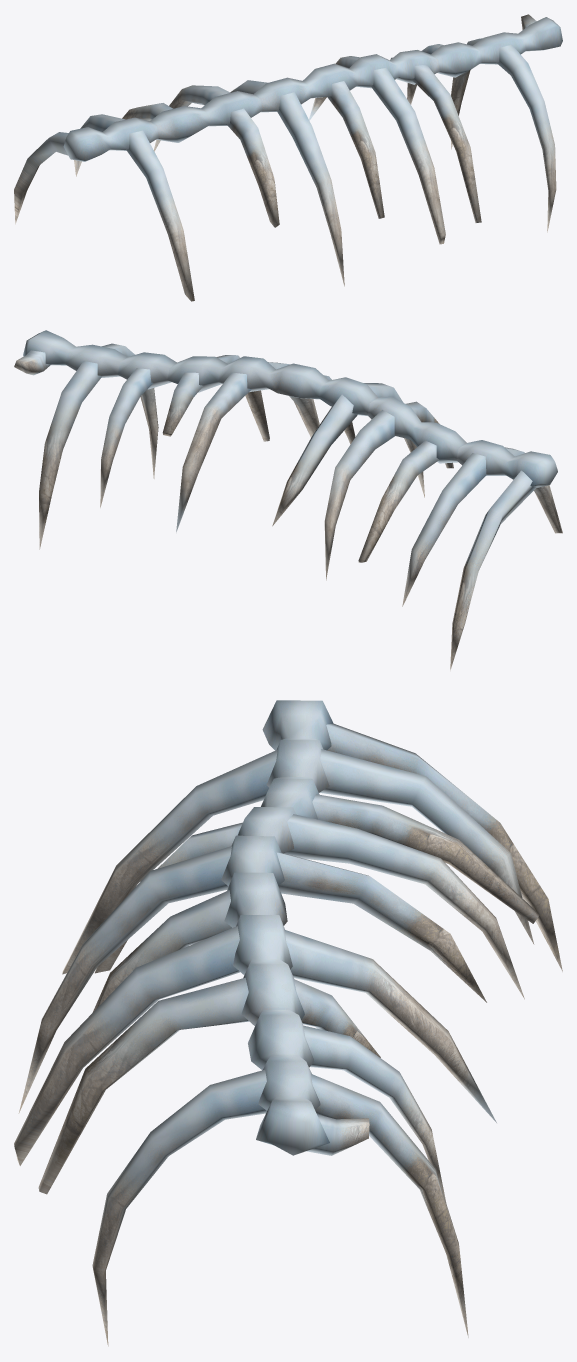
The model's file is Ice_bones02.FBX.
The picture shows the model from 3 angles, top to bottom: view 1: azimuth 30°, elevation 25°; view 2: azimuth 150°, elevation 25°; view 3: azimuth 270°, elevation 25°; orthographic projection. The views are drawn at different scales.
Parts seen in each view (by area): view 1: 10204_bone008; view 2: 10204_bone008; view 3: 10204_bone008.
Part boxes in pixels (x1,y1,x2,y2): 10204_bone008: [14, 14, 562, 301]; 10204_bone008: [14, 330, 562, 670]; 10204_bone008: [14, 700, 562, 1346].
Bounding box in the file's own units: 1014 × 351 × 557.
